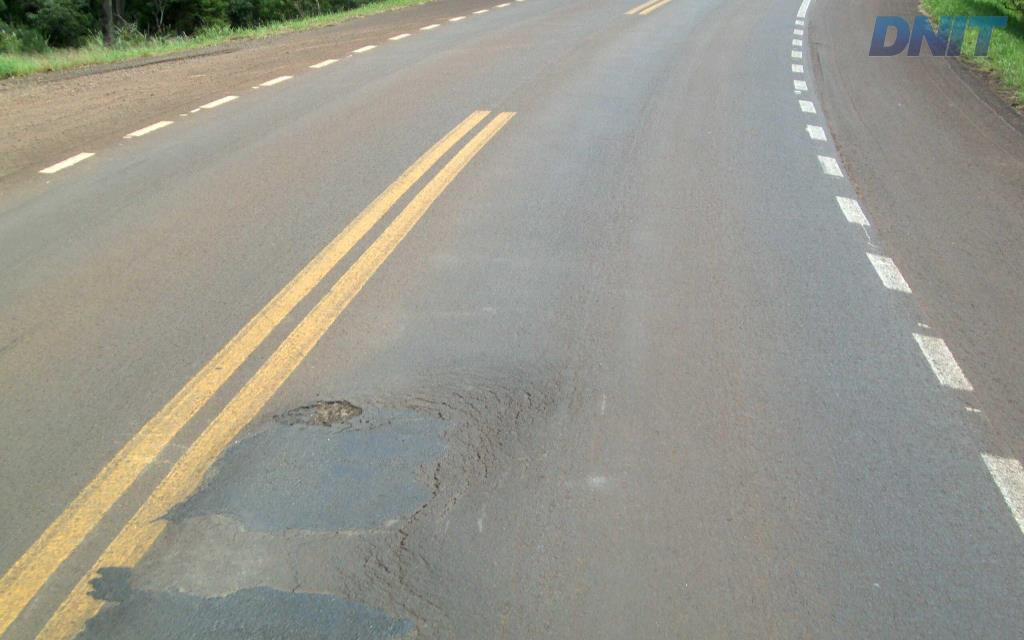pothole: (274, 400, 362, 426)
